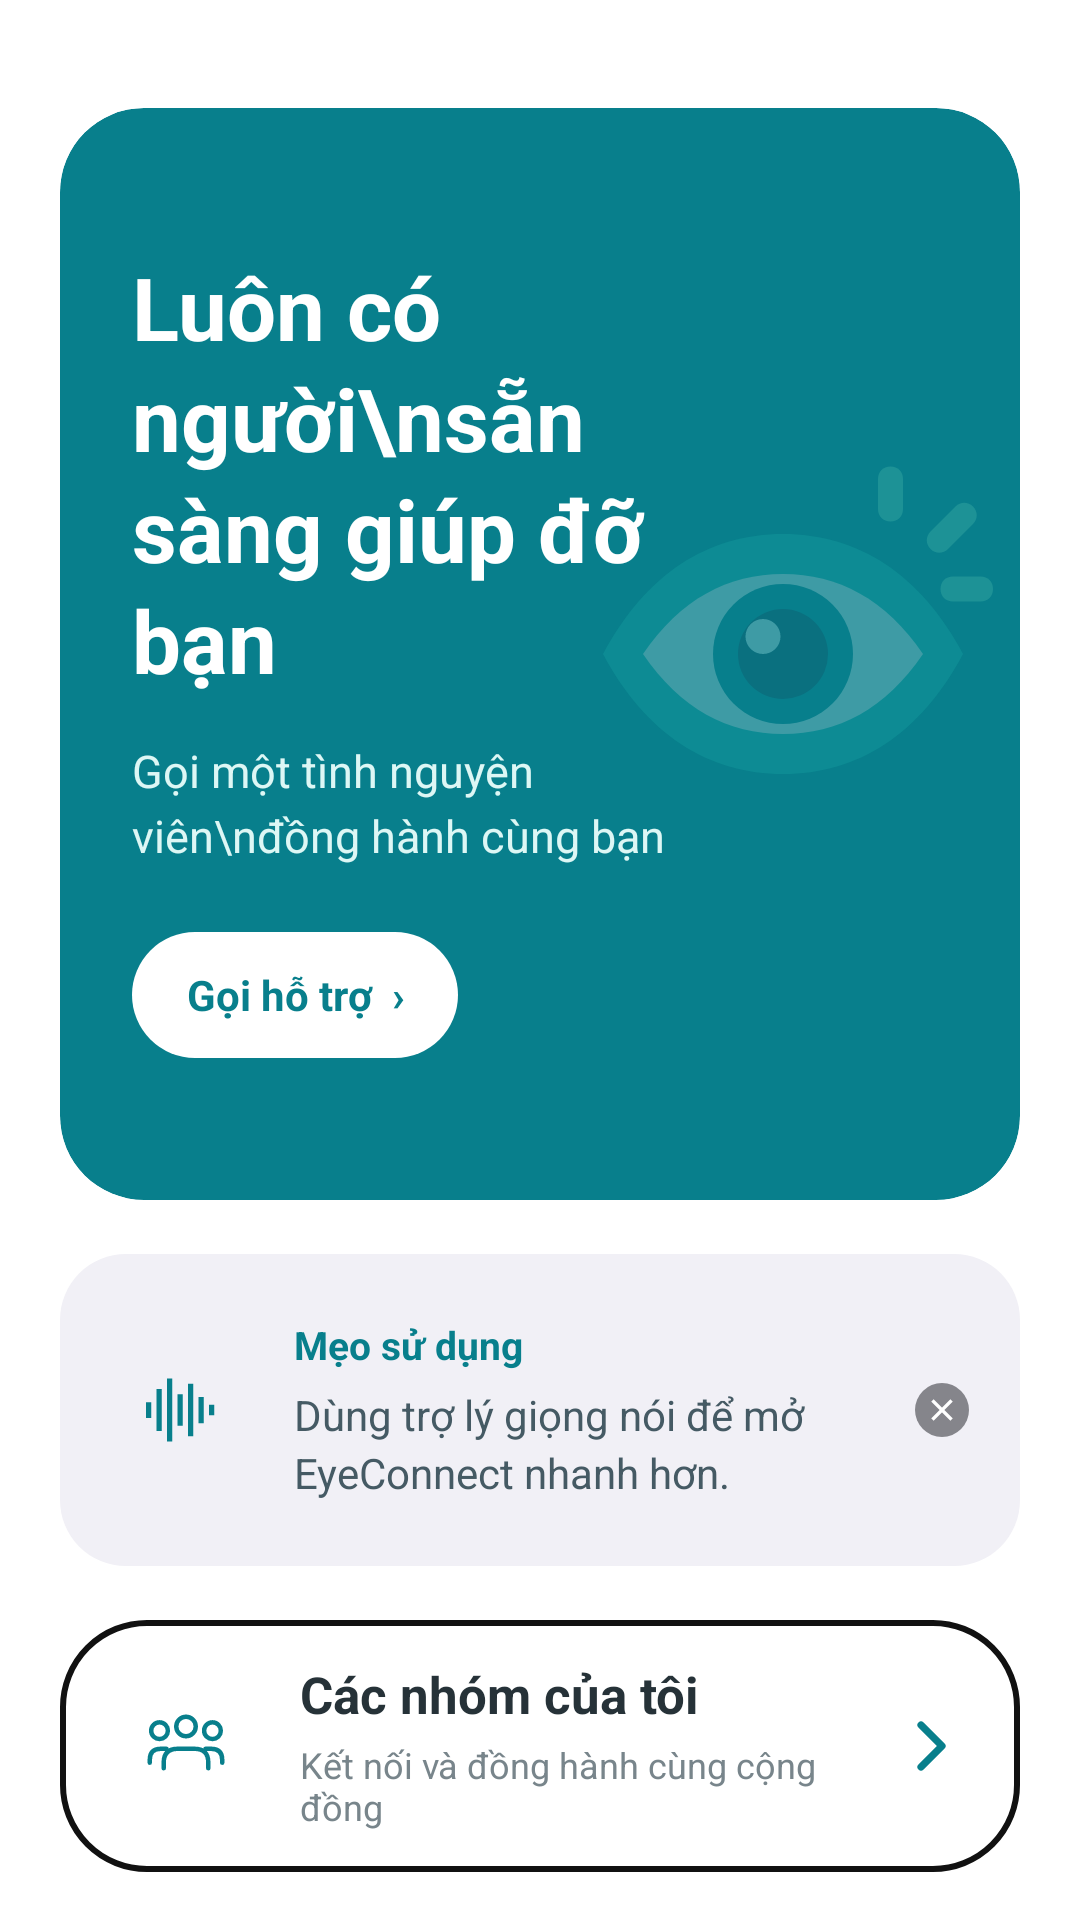

Where to tap for icons on this 1080×1920 app screen, as (x,y):
community: (186,1742)
Mở các nhóm: (931,1746)
Đóng gợi ý: (942,1410)
